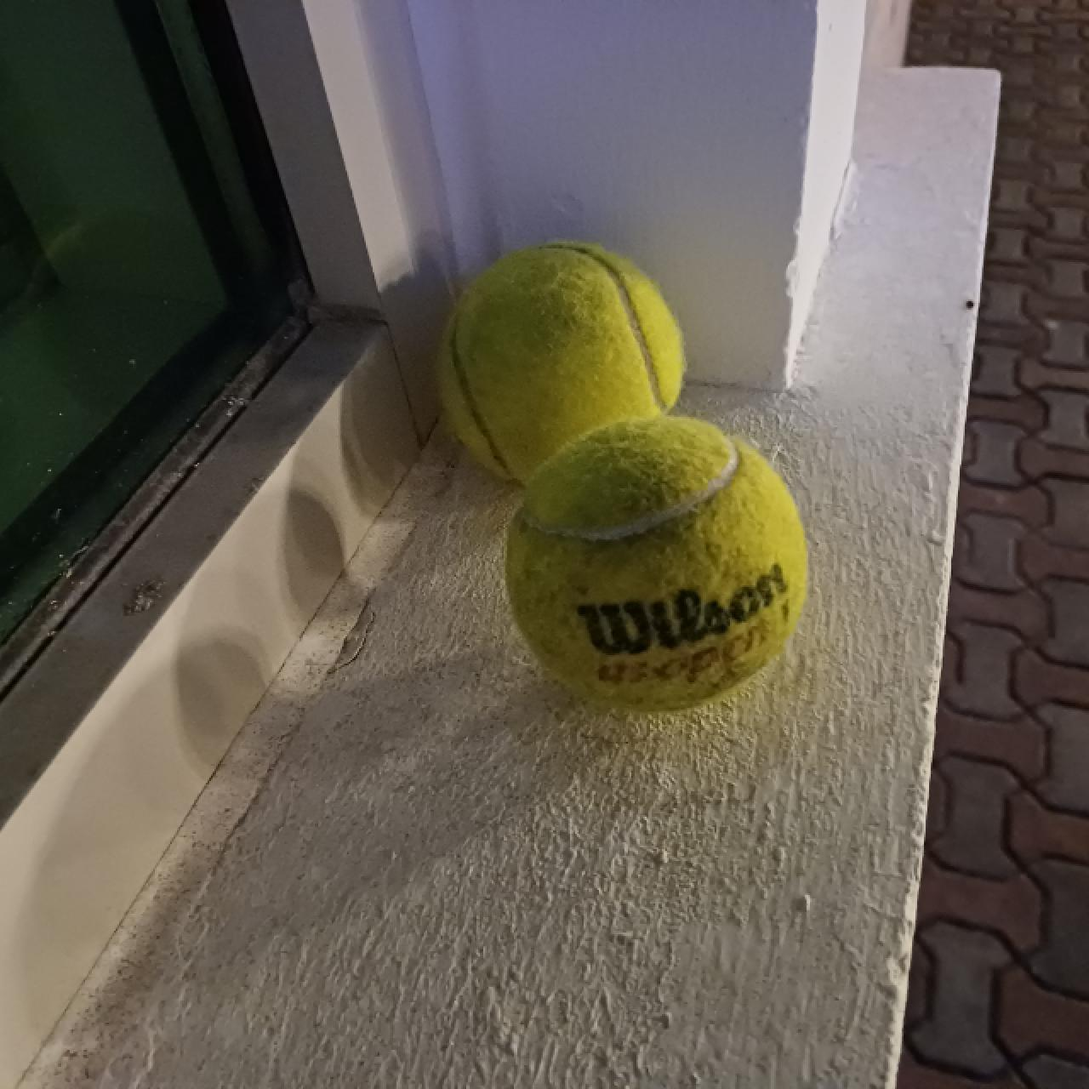tennis-ball: (504, 418, 806, 719), (433, 237, 684, 490)
